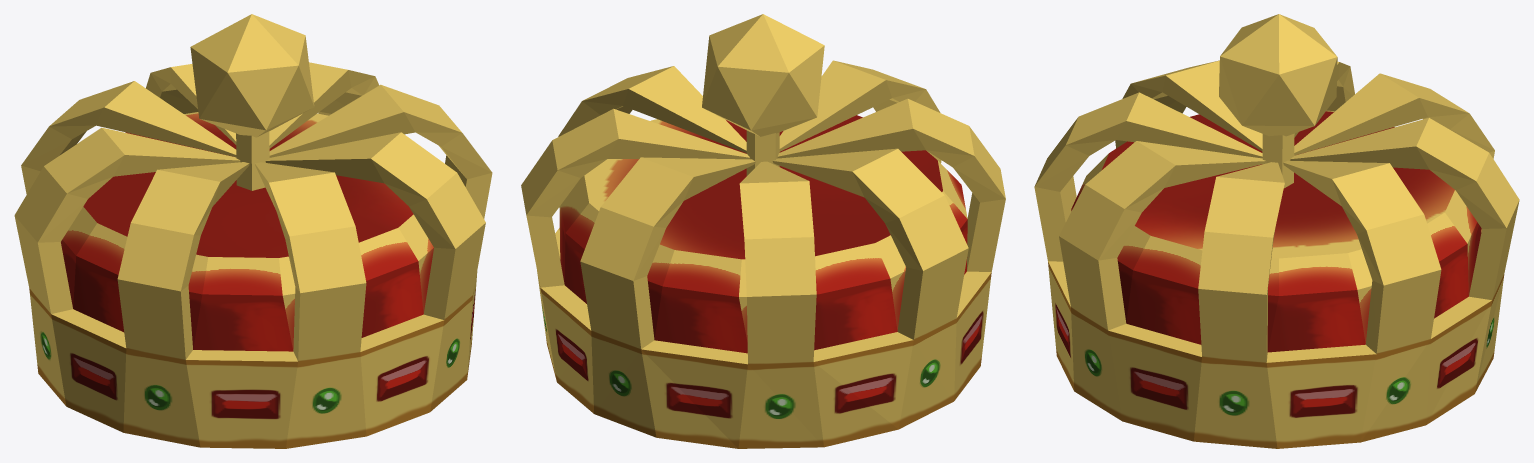
The model's file is Crown.obj.
3 renders of one model, left to right at view 1: azimuth 30°, elevation 25°; view 2: azimuth 150°, elevation 25°; view 3: azimuth 270°, elevation 25°, orthographic.
Parts seen in each view (by area): view 1: Plane.123_Cylinder.001; view 2: Plane.123_Cylinder.001; view 3: Plane.123_Cylinder.001.
Part boxes in pixels (x1,y1,x2,y2): Plane.123_Cylinder.001: (14,14,492,448); Plane.123_Cylinder.001: (521,14,1005,448); Plane.123_Cylinder.001: (1034,14,1519,448).
Size of the model in its own units: 41.95 by 33.23 by 41.95.
